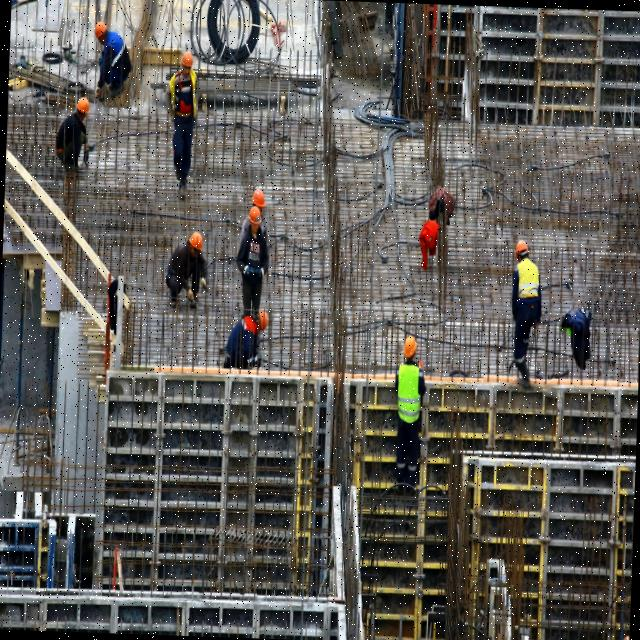Helmet: (187, 232, 205, 262), (403, 336, 419, 368), (247, 208, 263, 237), (94, 21, 111, 48), (514, 240, 531, 266), (75, 98, 91, 123), (181, 52, 195, 80), (251, 189, 267, 212), (256, 312, 270, 333)
Jacket: (168, 71, 196, 122), (398, 366, 422, 425), (517, 259, 539, 306)
NoJacket: (243, 227, 265, 283), (105, 34, 127, 82), (175, 252, 200, 287), (60, 118, 85, 149)
